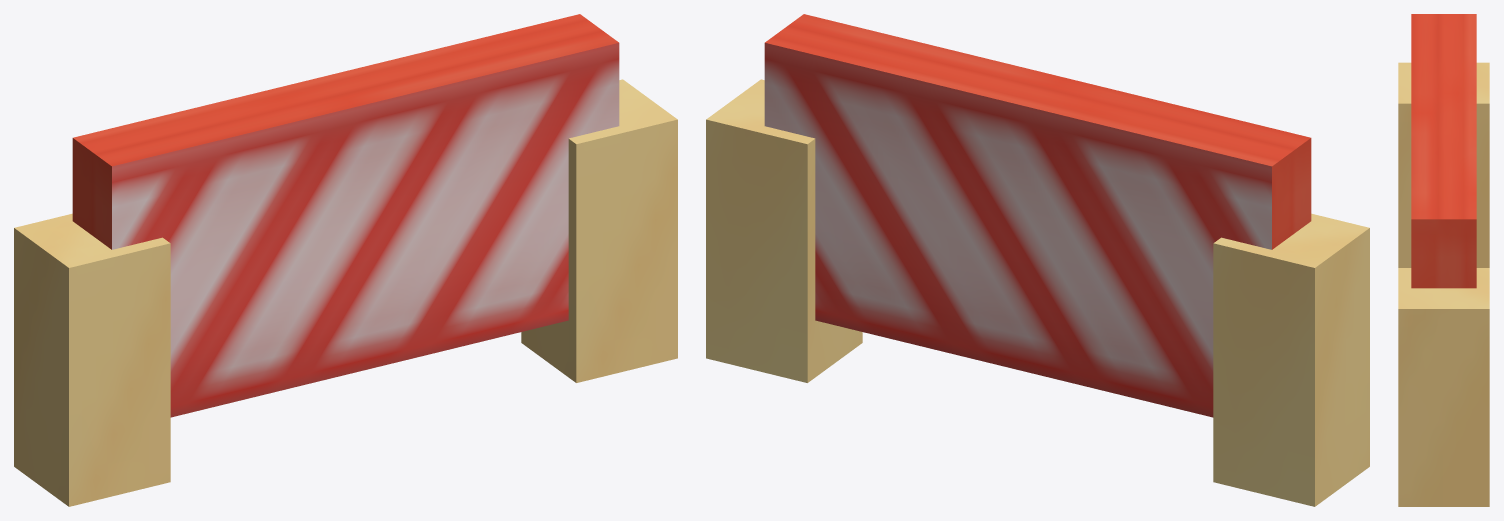
Rendered from Trap.fbx.
3 renders of one model, left to right at view 1: azimuth 30°, elevation 25°; view 2: azimuth 150°, elevation 25°; view 3: azimuth 270°, elevation 25°, orthographic. The views are drawn at different scales.
Visible parts, largest first — view 1: pCube4; view 2: pCube4; view 3: pCube4.
Part boxes in pixels (x1,y1,x2,y2): pCube4: [14, 14, 677, 506]; pCube4: [706, 14, 1369, 506]; pCube4: [1398, 14, 1489, 506].
Bounding box in the file's own units: 4.8 × 2.43 × 0.75.
